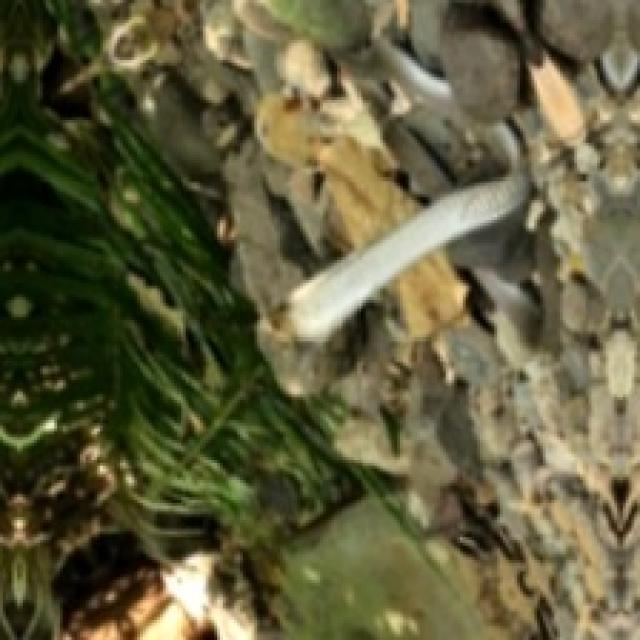king cobra: (254, 0, 637, 637), (406, 171, 523, 280)
